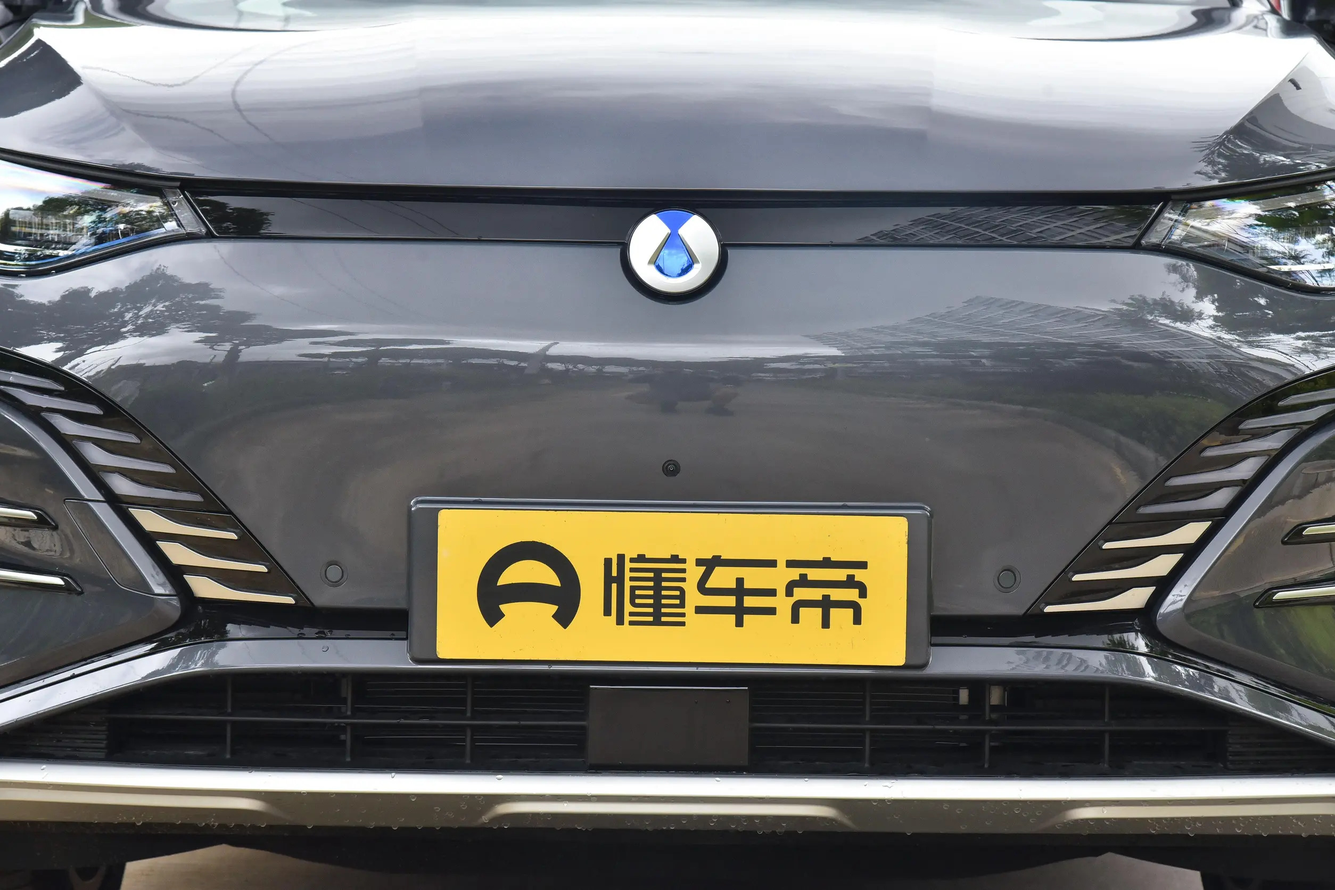DENZA: (629, 210, 718, 291)
